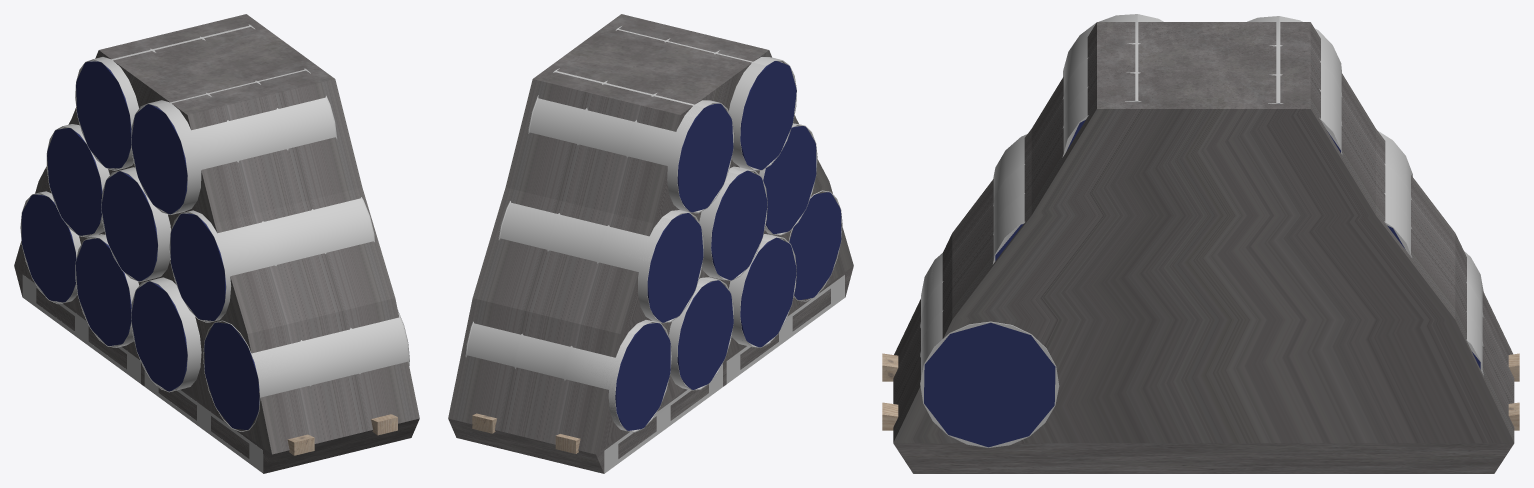
Rendered from drum_pallet.DAE.
3 renders of one model, left to right at view 1: azimuth 30°, elevation 25°; view 2: azimuth 150°, elevation 25°; view 3: azimuth 270°, elevation 25°, orthographic. The views are drawn at different scales.
Visible parts, largest first — view 1: Colmesh-1, drum_pallet80, drum_pallet300, drum_pallet160; view 2: Colmesh-1, drum_pallet80, drum_pallet160, drum_pallet300; view 3: Colmesh-1, drum_pallet80, drum_pallet300, drum_pallet160.
Boxes of the visible parts, box(x1,y1,x2,y2) form: Colmesh-1: box(14, 14, 419, 473); drum_pallet80: box(21, 61, 259, 429); drum_pallet300: box(21, 24, 409, 455); drum_pallet160: box(20, 25, 407, 473); Colmesh-1: box(448, 14, 853, 473); drum_pallet80: box(615, 61, 841, 430); drum_pallet160: box(467, 29, 844, 473); drum_pallet300: box(465, 25, 821, 453); Colmesh-1: box(893, 22, 1514, 473); drum_pallet80: box(924, 120, 1480, 447); drum_pallet300: box(882, 14, 1519, 447); drum_pallet160: box(921, 14, 1482, 367).
Size of the model in its own units: 95.45 by 268 by 170.
